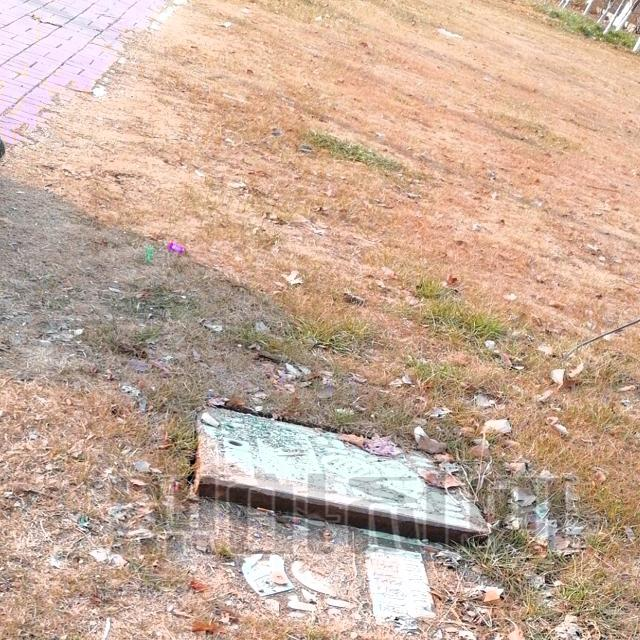uncovered: (135, 392, 512, 546)
